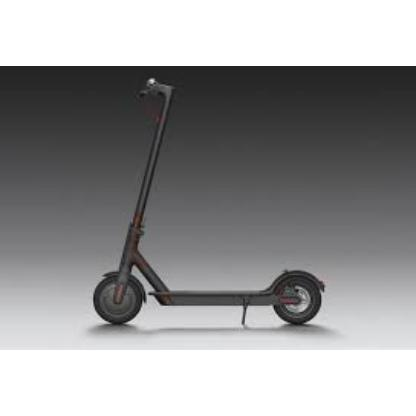bike: (92, 79, 326, 329)
